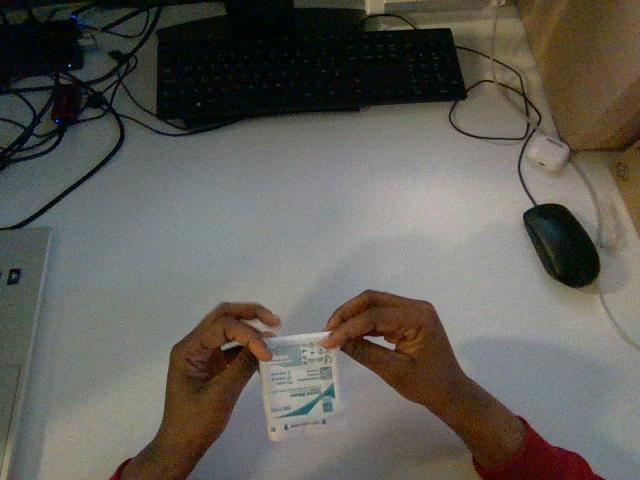gauze: (260, 332, 341, 440)
